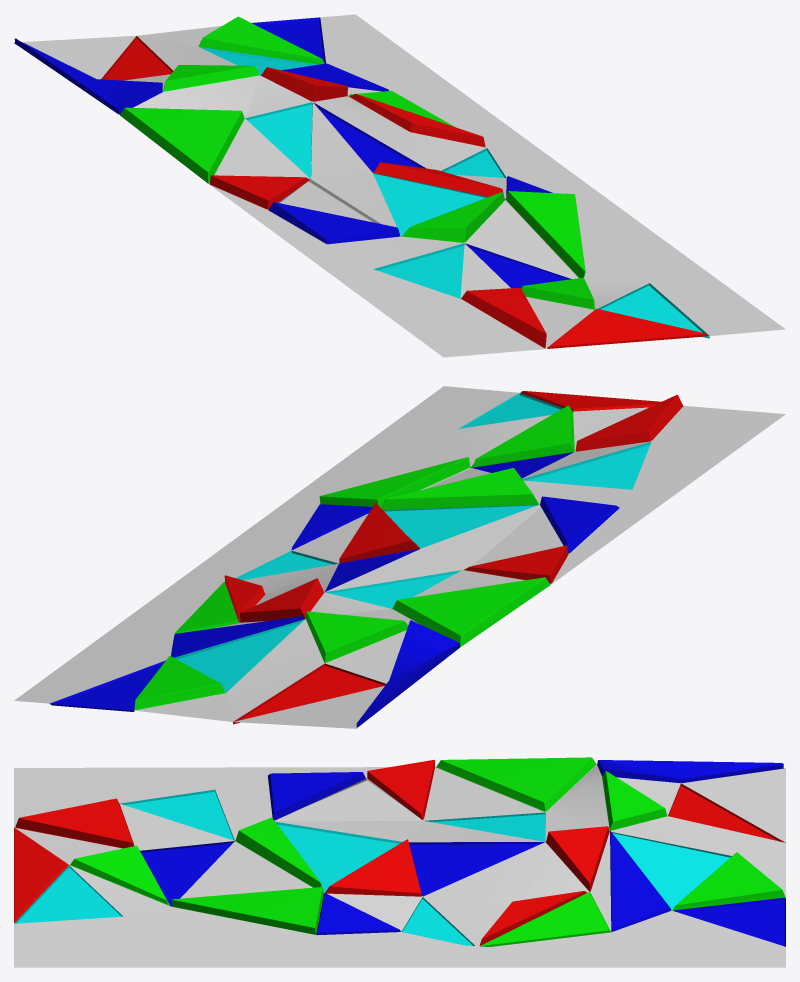
3 views of the same model, one above another, from view 1: azimuth 30°, elevation 25°; view 2: azimuth 150°, elevation 25°; view 3: azimuth 270°, elevation 25° (orthographic). The views are drawn at different scales.
Parts seen in each view (by area): view 1: bgShape02; view 2: bgShape02; view 3: bgShape02.
Boxes of the visible parts, bbox=[...] form: bgShape02: bbox=[14, 14, 785, 357]; bgShape02: bbox=[14, 386, 785, 728]; bgShape02: bbox=[14, 757, 785, 967].
Size of the model in its own units: 396 by 87.19 by 862.
